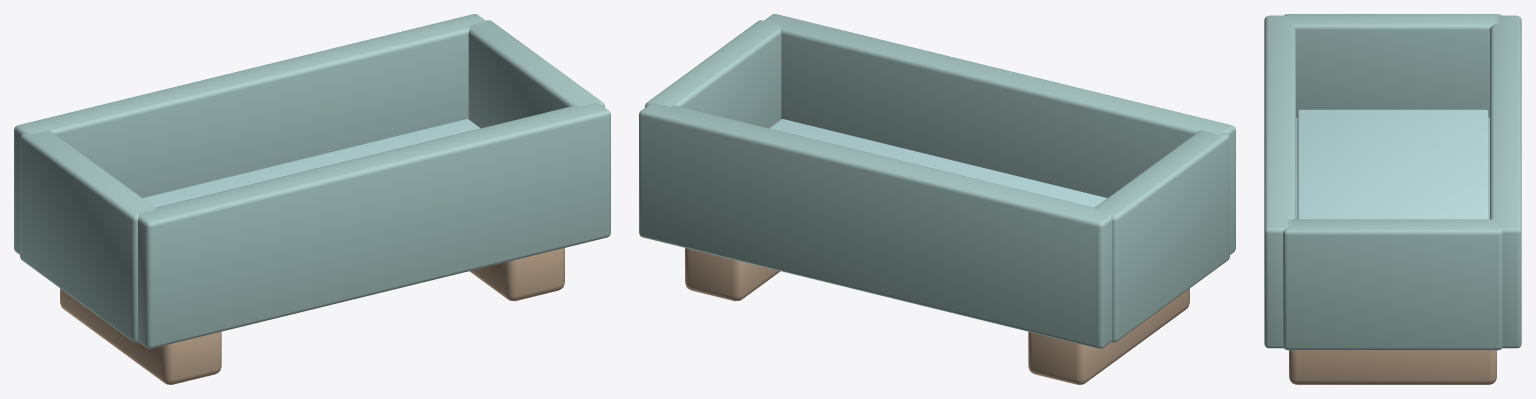
Rendered from water-trough-partial.glb.
The picture shows the model from 3 angles, left to right: view 1: azimuth 30°, elevation 25°; view 2: azimuth 150°, elevation 25°; view 3: azimuth 270°, elevation 25°; orthographic projection. The views are drawn at different scales.
Visible parts, largest first — view 1: Trough side.002, Trough side.003, Trough end.002, Trough end.003, Rounded trough foot.002, Water surface.001, Rounded trough foot.003; view 2: Trough side.003, Trough side.002, Trough end.002, Trough end.003, Rounded trough foot.002, Water surface.001, Rounded trough foot.003; view 3: Trough end.003, Water surface.001, Trough end.002, Trough side.003, Trough side.002, Rounded trough foot.003, Trough floor.001.
Boxes of the visible parts, x1,y1,x2,y2 form: Trough side.002: [138, 103, 610, 348]; Trough side.003: [14, 14, 485, 254]; Trough end.002: [20, 130, 155, 342]; Trough end.003: [468, 20, 604, 128]; Rounded trough foot.002: [60, 288, 221, 384]; Water surface.001: [142, 119, 480, 207]; Rounded trough foot.003: [469, 248, 564, 301]; Trough side.003: [639, 103, 1111, 348]; Trough side.002: [764, 14, 1235, 254]; Trough end.002: [1094, 130, 1229, 342]; Trough end.003: [645, 20, 781, 128]; Rounded trough foot.002: [1028, 288, 1189, 384]; Water surface.001: [769, 119, 1107, 207]; Rounded trough foot.003: [685, 248, 780, 301]; Trough end.003: [1283, 219, 1502, 350]; Water surface.001: [1297, 109, 1488, 219]; Trough end.002: [1284, 14, 1501, 117]; Trough side.003: [1490, 15, 1521, 348]; Trough side.002: [1264, 15, 1295, 348]; Rounded trough foot.003: [1289, 350, 1496, 384]; Trough floor.001: [1296, 117, 1489, 219].
Bounding box in the file's own units: 1.79 × 0.66 × 0.89.
